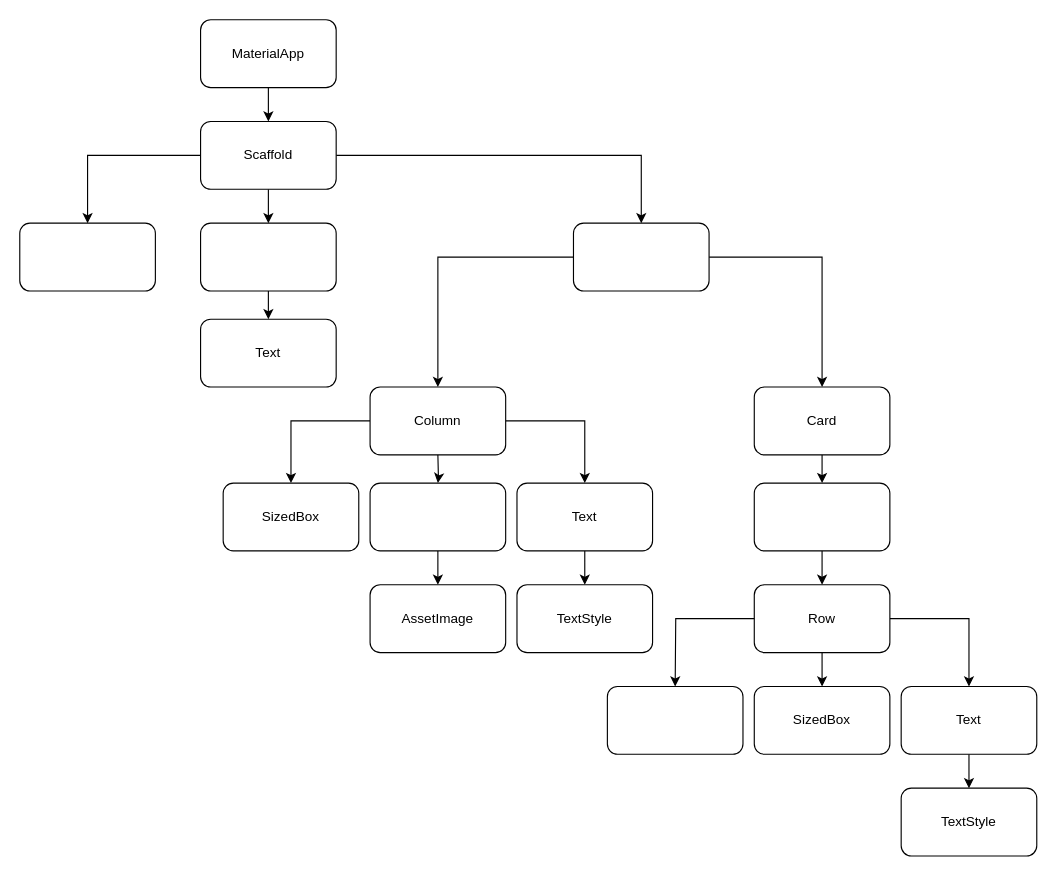
This 1057x876 diagram has some shape labels left out. The shapes that lost their labels are listed below. From the top down, each one's centre as x and y in pixels, then its label:
(x=87, y=256): backgroundColor
(x=267, y=256): AppBar
(x=640, y=256): SafeArea
(x=437, y=516): CircleAvatar
(x=821, y=516): Padding
(x=674, y=719): Icon
